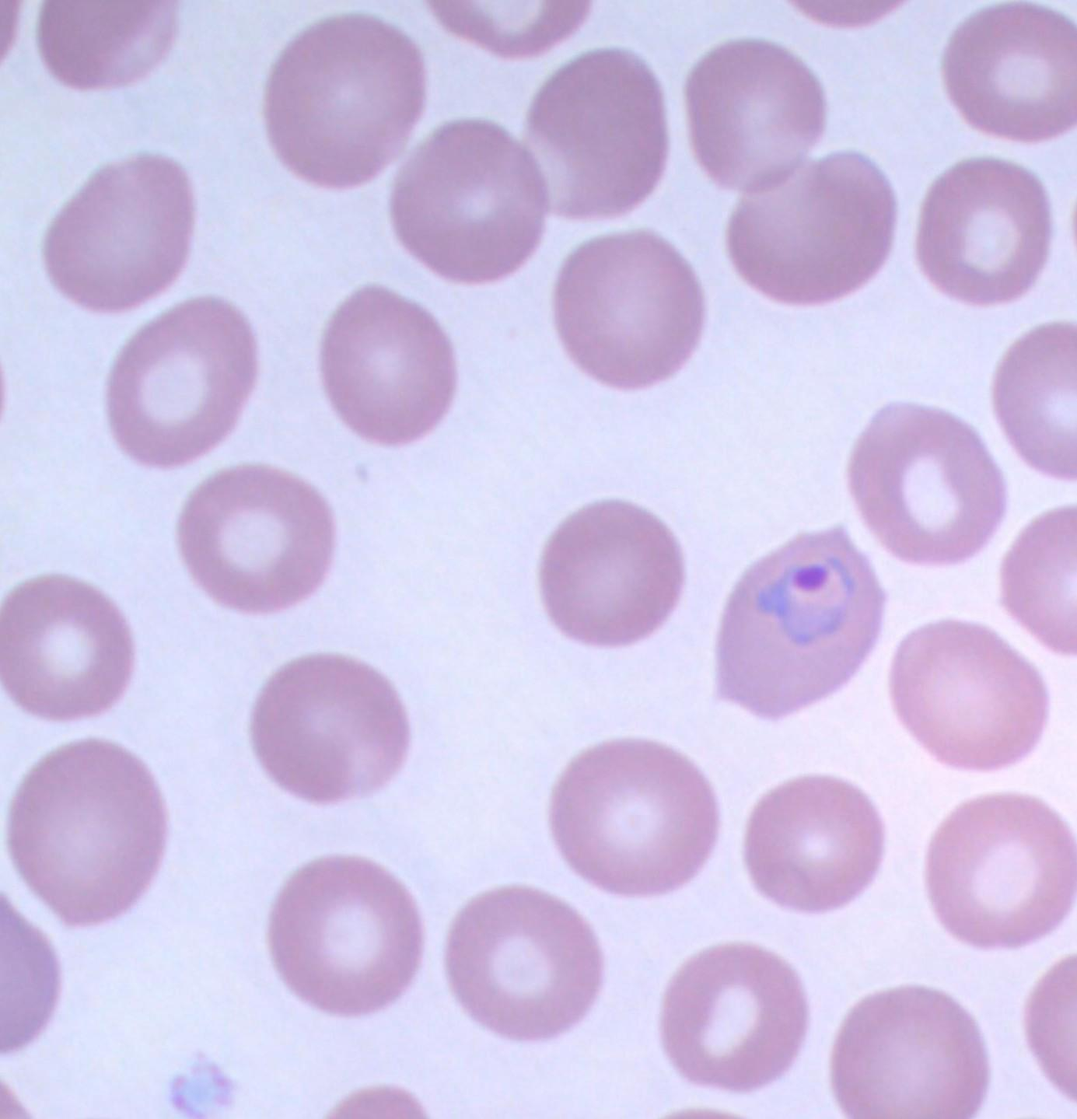Infected: (717, 527, 885, 716)
Uninfected: (10, 739, 168, 925), (262, 16, 424, 188), (727, 146, 899, 308), (511, 45, 670, 218), (848, 405, 1009, 572), (105, 300, 261, 468), (270, 854, 426, 1018), (389, 121, 544, 286), (554, 737, 713, 897), (890, 617, 1051, 772), (247, 652, 407, 807), (554, 226, 703, 390), (42, 152, 191, 315), (449, 885, 605, 1040), (177, 465, 334, 614), (927, 793, 1077, 948), (684, 37, 829, 196), (661, 939, 808, 1094), (317, 286, 457, 446), (539, 496, 682, 650), (836, 982, 989, 1119), (912, 162, 1057, 306), (0, 570, 138, 718), (743, 776, 886, 909), (945, 5, 1077, 146), (35, 0, 183, 95)
